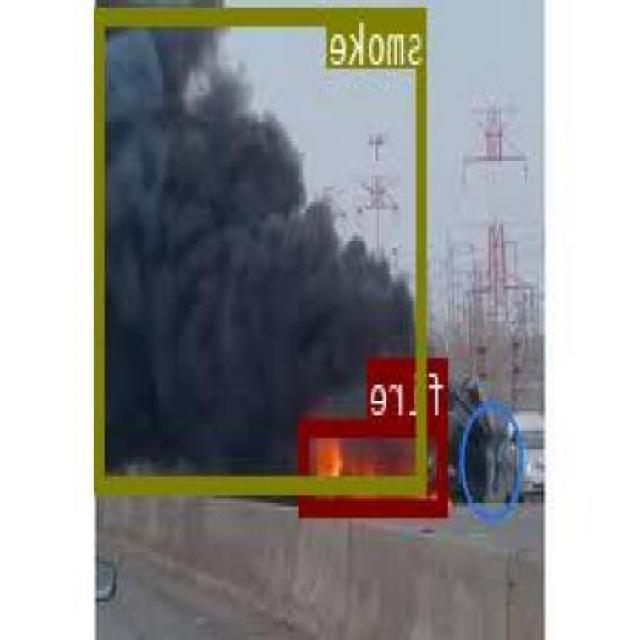Fire: (302, 417, 449, 511)
Smoke: (97, 6, 428, 488)
